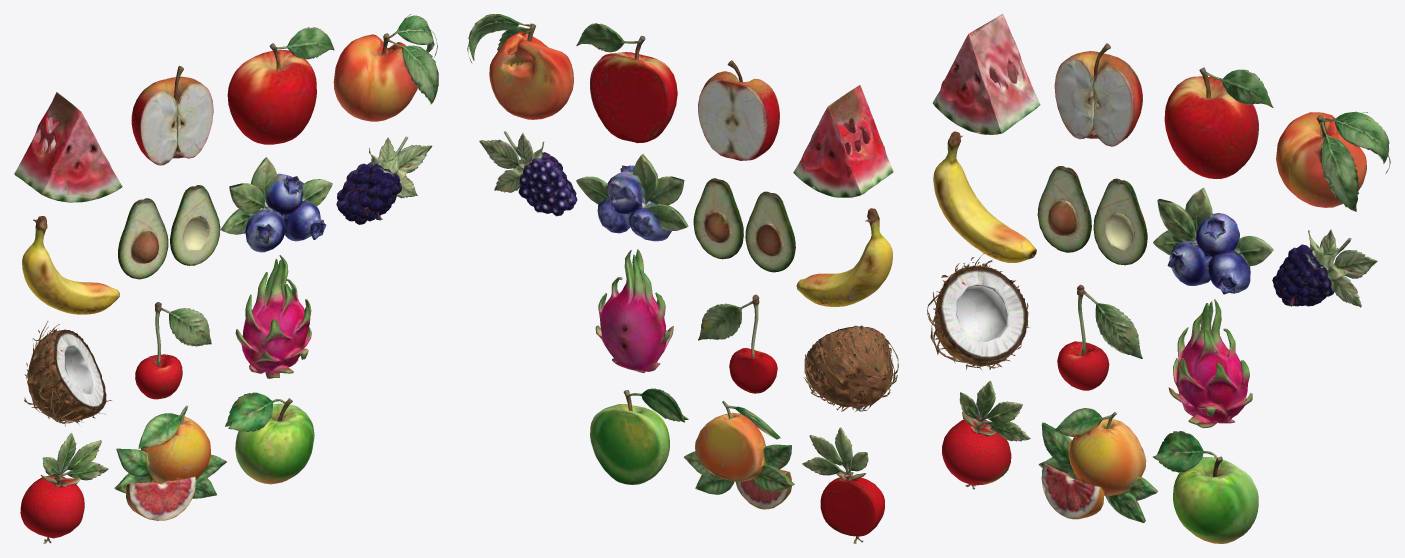
3 renders of one model, left to right at view 1: azimuth 30°, elevation 25°; view 2: azimuth 150°, elevation 25°; view 3: azimuth 330°, elevation 25°, orthographic. The views are drawn at different scales.
Visible parts, largest first — view 1: Mesh 12, Mesh 5, Mesh 16, Mesh 4, Mesh 10, Mesh 11, Mesh 1, Mesh 7, Mesh 13, Mesh 3, Mesh 15, Mesh 2 (+3 smaller); view 2: Mesh 12, Mesh 5, Mesh 4, Mesh 16, Mesh 1, Mesh 11, Mesh 7, Mesh 13, Mesh 10, Mesh 3, Mesh 15, Mesh 2 (+3 smaller); view 3: Mesh 5, Mesh 12, Mesh 16, Mesh 1, Mesh 4, Mesh 11, Mesh 10, Mesh 7, Mesh 13, Mesh 3, Mesh 15, Mesh 2 (+3 smaller).
Boxes of the visible parts, left/top/right/bottom form: Mesh 12: left=227, top=27, right=334, bottom=144; Mesh 5: left=114, top=405, right=226, bottom=520; Mesh 16: left=333, top=14, right=438, bottom=121; Mesh 4: left=14, top=92, right=122, bottom=202; Mesh 10: left=220, top=157, right=332, bottom=252; Mesh 11: left=225, top=392, right=314, bottom=484; Mesh 1: left=24, top=321, right=111, bottom=426; Mesh 7: left=131, top=65, right=213, bottom=165; Mesh 13: left=235, top=255, right=311, bottom=378; Mesh 3: left=20, top=433, right=108, bottom=543; Mesh 15: left=336, top=136, right=432, bottom=224; Mesh 2: left=22, top=216, right=119, bottom=314; Mesh 12: left=576, top=23, right=677, bottom=143; Mesh 5: left=684, top=400, right=794, bottom=509; Mesh 4: left=793, top=85, right=893, bottom=197; Mesh 16: left=467, top=14, right=573, bottom=119; Mesh 1: left=803, top=325, right=898, bottom=411; Mesh 11: left=590, top=388, right=688, bottom=484; Mesh 7: left=698, top=60, right=779, bottom=160; Mesh 13: left=595, top=249, right=673, bottom=372; Mesh 10: left=576, top=154, right=688, bottom=241; Mesh 3: left=802, top=427, right=884, bottom=543; Mesh 15: left=479, top=131, right=577, bottom=216; Mesh 2: left=796, top=208, right=892, bottom=306; Mesh 5: left=1038, top=408, right=1157, bottom=522; Mesh 12: left=1164, top=67, right=1273, bottom=178; Mesh 16: left=1276, top=111, right=1390, bottom=211; Mesh 1: left=927, top=253, right=1028, bottom=370; Mesh 4: left=932, top=14, right=1040, bottom=134; Mesh 11: left=1153, top=431, right=1258, bottom=543; Mesh 10: left=1153, top=187, right=1273, bottom=294; Mesh 7: left=1054, top=43, right=1142, bottom=146; Mesh 13: left=1168, top=299, right=1252, bottom=428; Mesh 3: left=942, top=380, right=1030, bottom=489; Mesh 15: left=1272, top=229, right=1377, bottom=307; Mesh 2: left=933, top=131, right=1036, bottom=262.
Bounding box in the file's own units: 1.83 × 1.89 × 0.3136.
15 materials, 15 textured.
